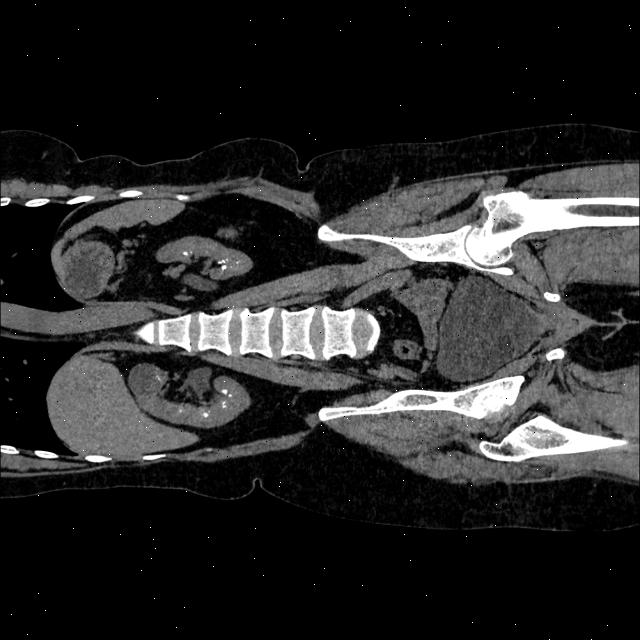kidneystone: (201, 411, 208, 418), (221, 264, 227, 270), (182, 250, 188, 255), (222, 389, 227, 394), (222, 401, 225, 408), (218, 259, 225, 262)
